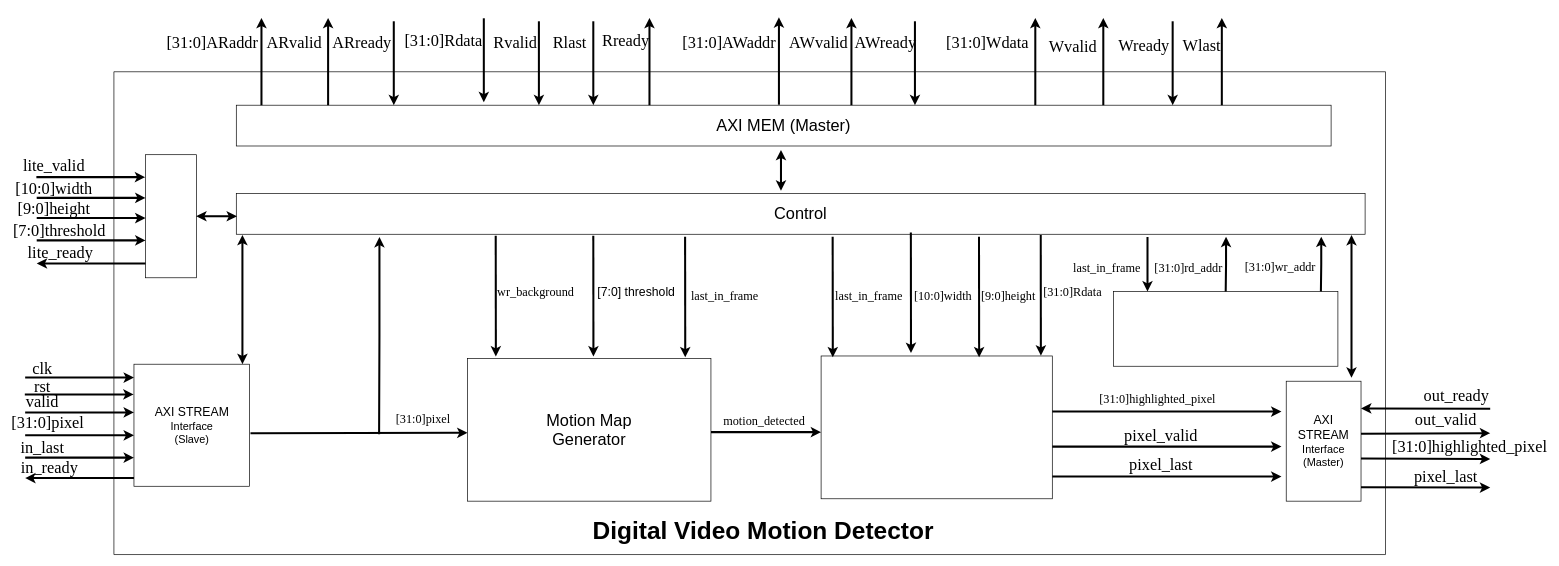
The diagram is 1559 pixels wide and 566 high, and some of its shapes have lost their labels. The shapes that lost their labels are listed below. From the top down, each one's centre as x and y in pixels, then its label:
At point (171, 216): "AXI LITE Interface (Slave)".
At point (1225, 328): "Address Manager".
At point (936, 427): "Bounding Box Generator".
